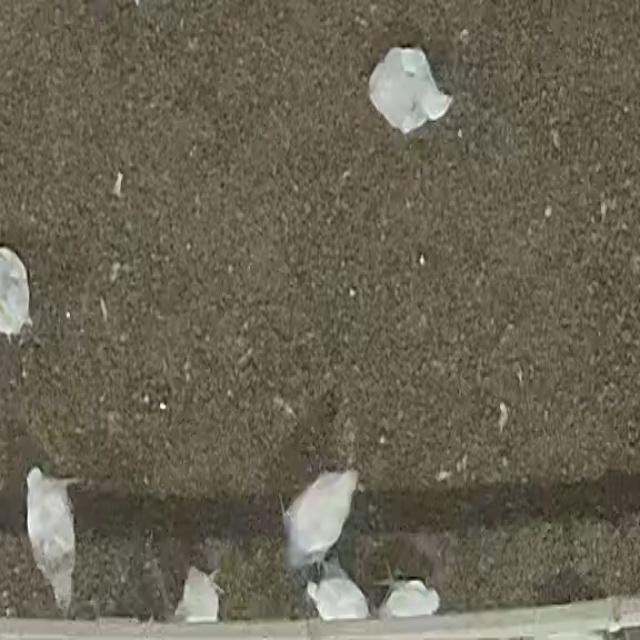chicken: (26, 461, 78, 609), (365, 46, 451, 132), (282, 471, 358, 566), (0, 246, 32, 338), (308, 576, 368, 624), (176, 566, 218, 630), (375, 579, 440, 620)
